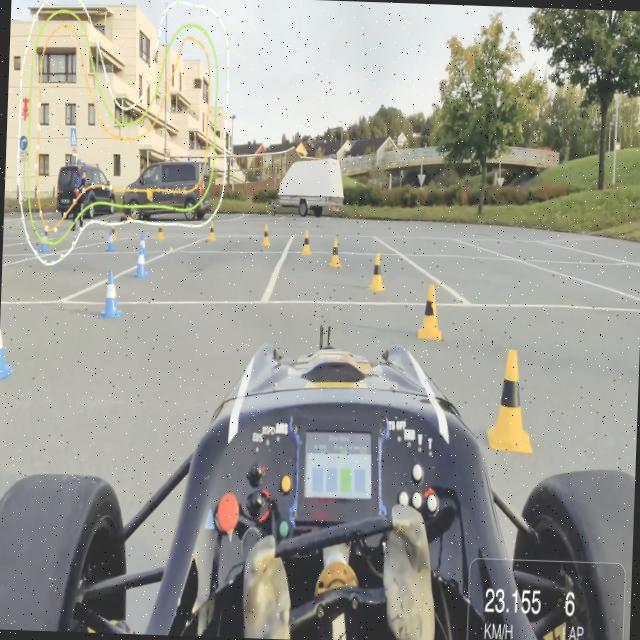blue_cone: (0, 299, 18, 382), (100, 269, 124, 320), (134, 248, 147, 278), (38, 226, 48, 258), (106, 227, 115, 253), (137, 232, 147, 255)
yellow_cone: (488, 343, 536, 455), (418, 282, 442, 342), (369, 250, 386, 292), (328, 237, 341, 270), (260, 220, 272, 248), (301, 228, 311, 258), (108, 219, 116, 243), (208, 219, 216, 242), (156, 220, 164, 241)
